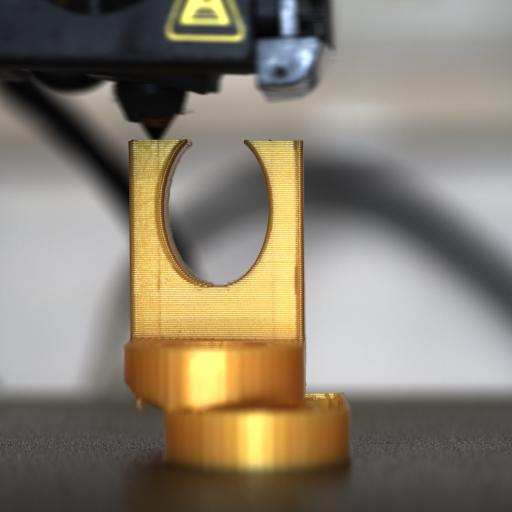layer_shift: (128, 382, 353, 422)
